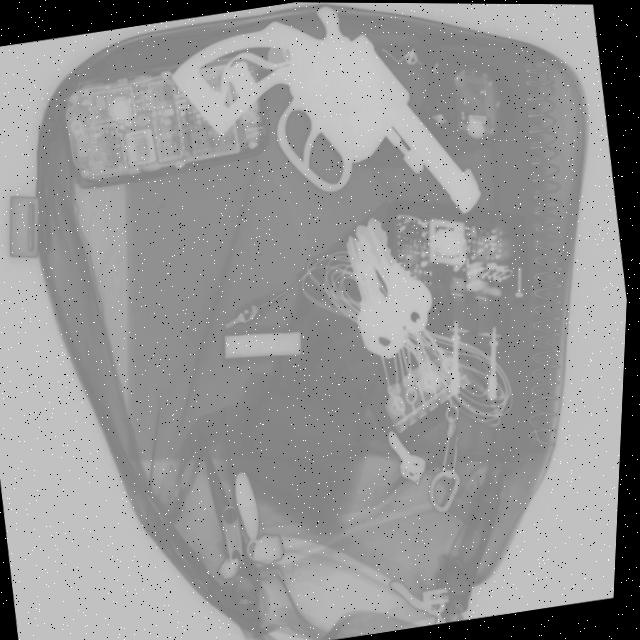grenade: (49, 44, 277, 198)
